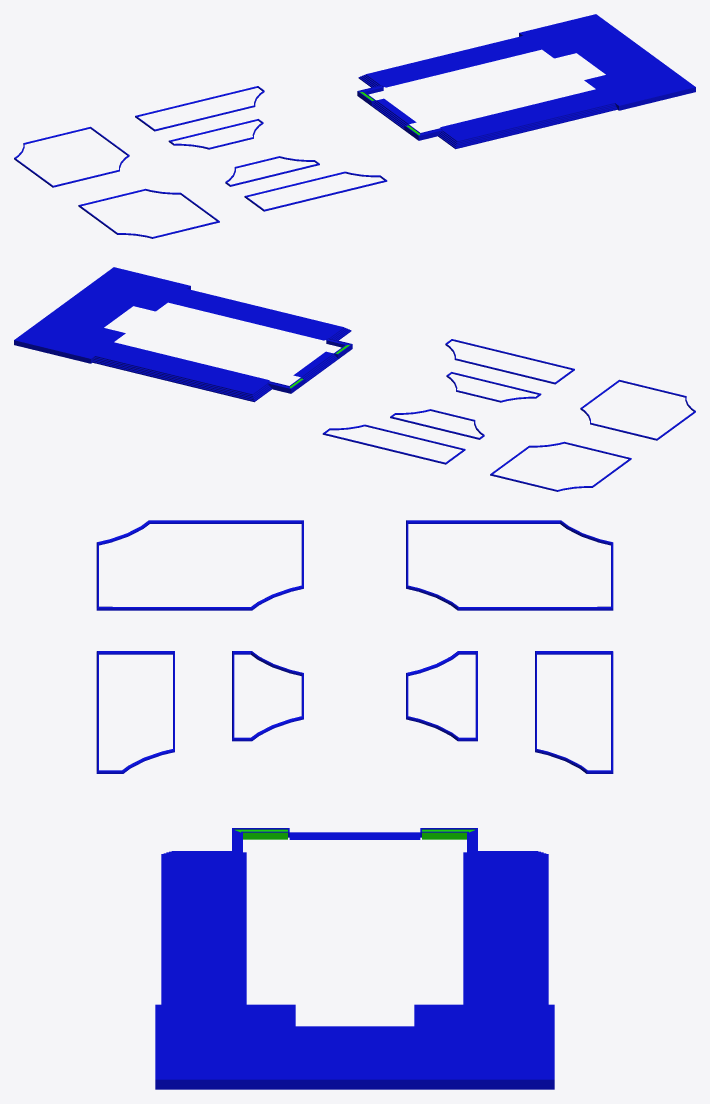
File: churchPatio_collisionSetup.fbx
3 renders of one model, top to bottom at view 1: azimuth 30°, elevation 25°; view 2: azimuth 150°, elevation 25°; view 3: azimuth 270°, elevation 25°, orthographic. The views are drawn at different scales.
Parts seen in each view (by area): view 1: collisionCube.153, collisionCube.135, collisionCube.154, collisionCube.136, collisionCube.158, collisionCube.157, collisionCube.156, collisionCube.155; view 2: collisionCube.135, collisionCube.153, collisionCube.136, collisionCube.154, collisionCube.140, collisionCube.139, collisionCube.138, collisionCube.137; view 3: collisionCube.135, collisionCube.153, collisionCube.136, collisionCube.154, collisionCube.148.
Part boxes in pixels (x1=…): collisionCube.153: x1=584, y1=50, x2=695, y2=110; collisionCube.135: x1=519, y1=14, x2=645, y2=63; collisionCube.154: x1=440, y1=89, x2=614, y2=142; collisionCube.136: x1=365, y1=36, x2=541, y2=87; collisionCube.158: x1=437, y1=108, x2=617, y2=149; collisionCube.157: x1=439, y1=107, x2=616, y2=147; collisionCube.156: x1=440, y1=105, x2=616, y2=145; collisionCube.155: x1=441, y1=104, x2=615, y2=143; collisionCube.135: x1=14, y1=303, x2=125, y2=363; collisionCube.153: x1=64, y1=267, x2=190, y2=316; collisionCube.136: x1=95, y1=342, x2=269, y2=395; collisionCube.154: x1=168, y1=289, x2=344, y2=340; collisionCube.140: x1=92, y1=361, x2=272, y2=402; collisionCube.139: x1=93, y1=360, x2=270, y2=400; collisionCube.138: x1=93, y1=358, x2=269, y2=398; collisionCube.137: x1=94, y1=357, x2=268, y2=396; collisionCube.135: x1=355, y1=1004, x2=554, y2=1089; collisionCube.153: x1=155, y1=1004, x2=354, y2=1089; collisionCube.136: x1=463, y1=851, x2=538, y2=1004; collisionCube.154: x1=171, y1=851, x2=246, y2=1004; collisionCube.148: x1=289, y1=832, x2=420, y2=839.
Bounding box in the file's own units: 13005 × 107 × 5010.
